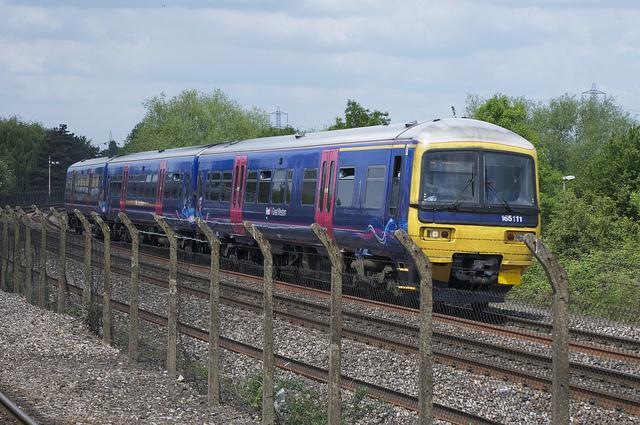Train: (68, 117, 545, 300)
